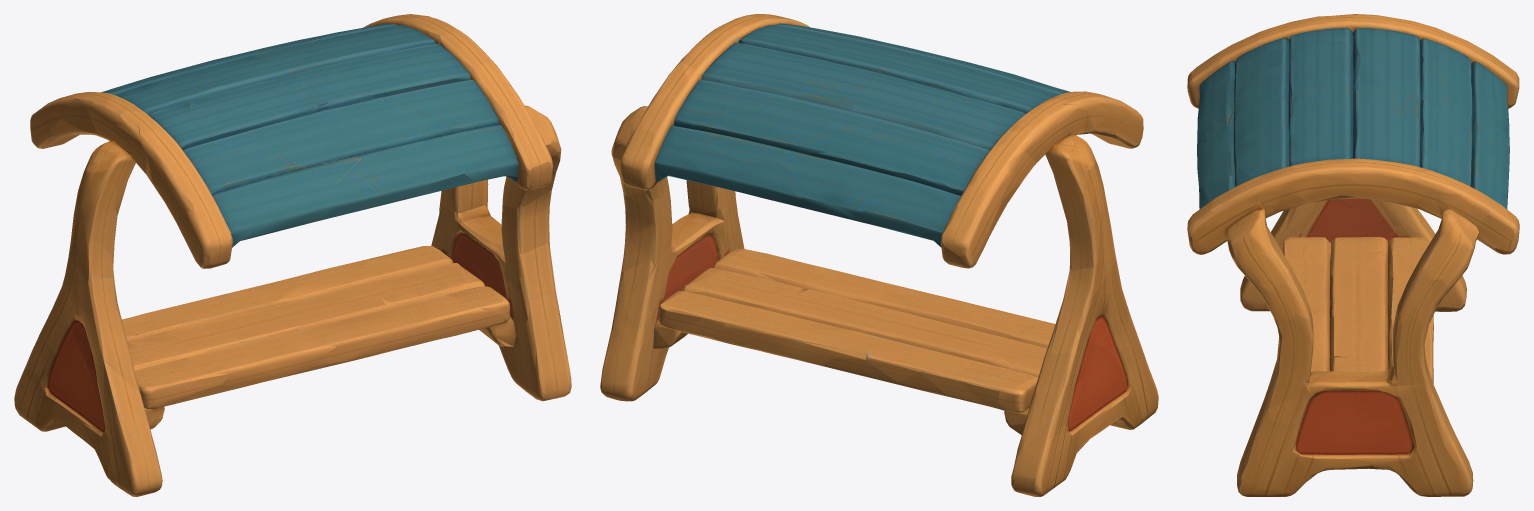
Rendered from shelterBench.glb.
3 views of the same model, side by side, from view 1: azimuth 30°, elevation 25°; view 2: azimuth 150°, elevation 25°; view 3: azimuth 270°, elevation 25° (orthographic). The views are drawn at different scales.
Parts seen in each view (by area): view 1: Mesh_0; view 2: Mesh_0; view 3: Mesh_0.
Part boxes in pixels (x1=…): Mesh_0: x1=14, y1=14, x2=571, y2=496; Mesh_0: x1=600, y1=14, x2=1158, y2=496; Mesh_0: x1=1187, y1=14, x2=1519, y2=496.
Size of the model in its own units: 1.14 by 0.8231 by 0.8.
1 material, 1 textured.
